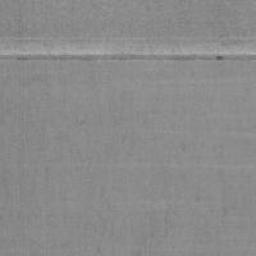Welding line: (0, 52, 256, 63)
